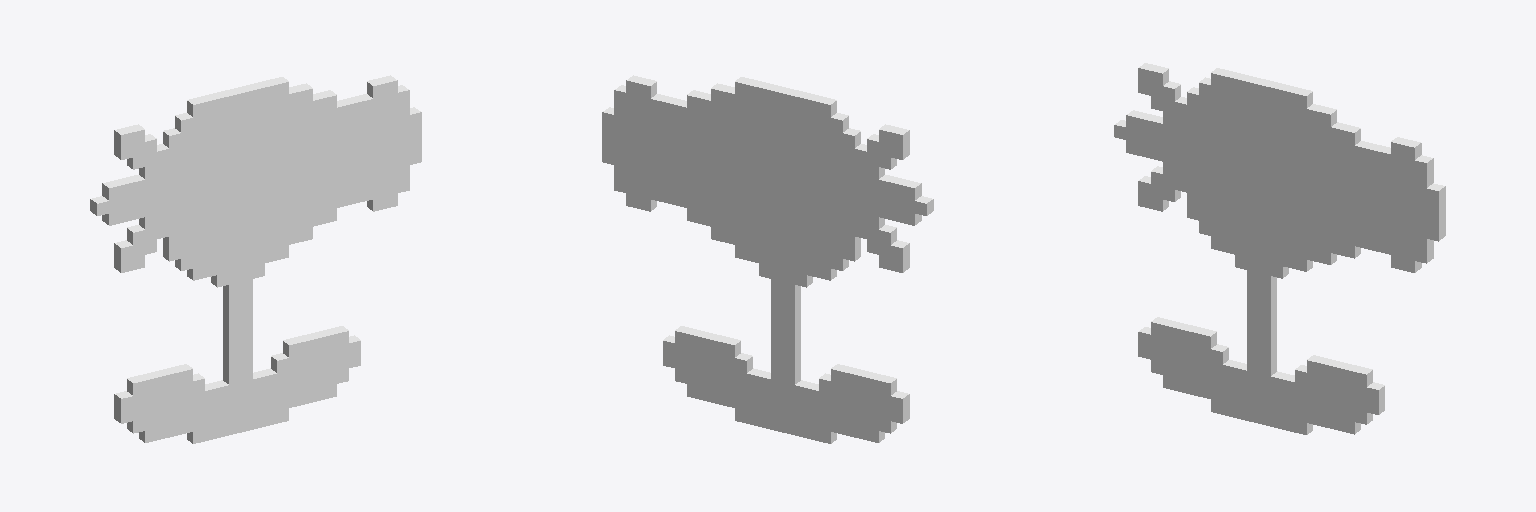
File: Plant4SnowPea.obj
3 views of the same model, side by side, from view 1: azimuth 30°, elevation 25°; view 2: azimuth 150°, elevation 25°; view 3: azimuth 330°, elevation 25° (orthographic).
Parts seen in each view (by area): view 1: object 1; view 2: object 1; view 3: object 1.
Part boxes in pixels (x1,y1,x2,y2): object 1: (90, 75, 421, 443); object 1: (602, 75, 933, 443); object 1: (1114, 63, 1445, 434).
Bounding box in the file's own units: 2.7 × 2.7 × 0.1.